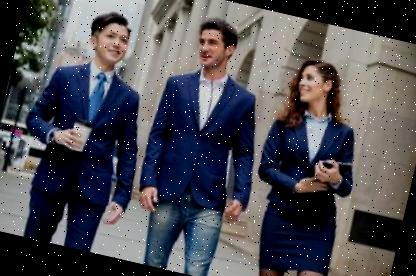person: (117, 2, 290, 276), (0, 0, 174, 259), (229, 45, 383, 276)
